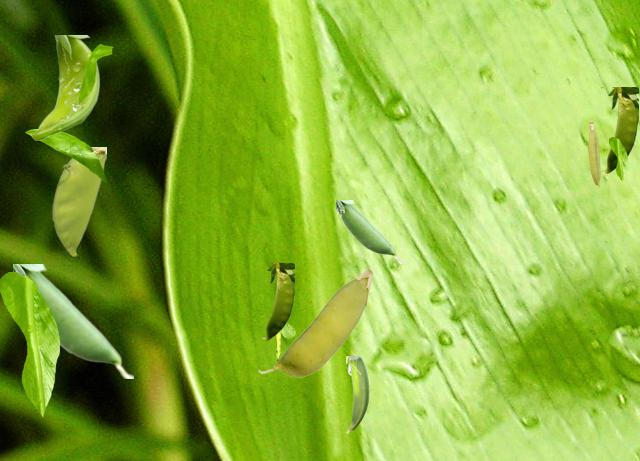pea: (13, 264, 132, 377), (258, 268, 372, 376), (30, 35, 98, 139), (52, 147, 105, 255), (336, 200, 402, 262), (601, 87, 637, 172), (261, 263, 293, 339), (346, 356, 369, 432), (588, 120, 599, 187), (276, 333, 281, 360)
